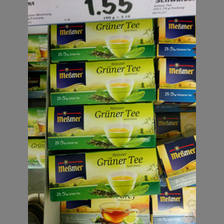tea: (47, 148, 161, 203), (49, 103, 155, 150), (48, 59, 156, 105), (50, 19, 155, 65)
